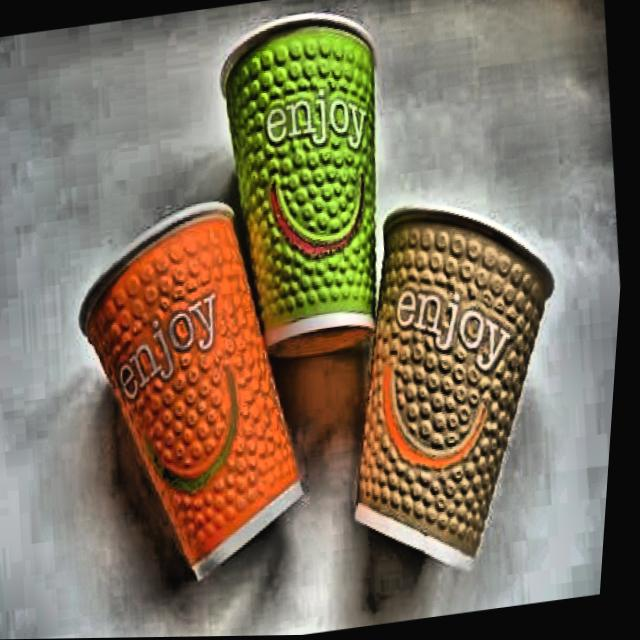Cup: (316, 185, 606, 598), (62, 187, 339, 616), (189, 5, 419, 364)
